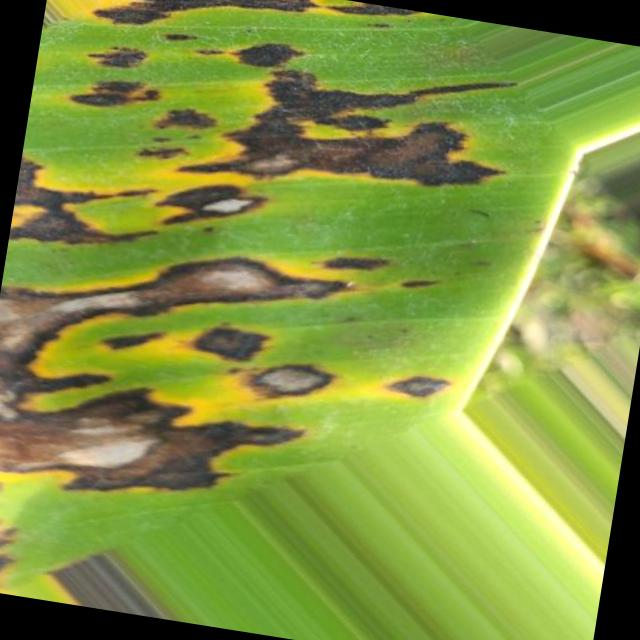Banana_Black_Sigatoka: (10, 0, 531, 306), (0, 249, 361, 640)
